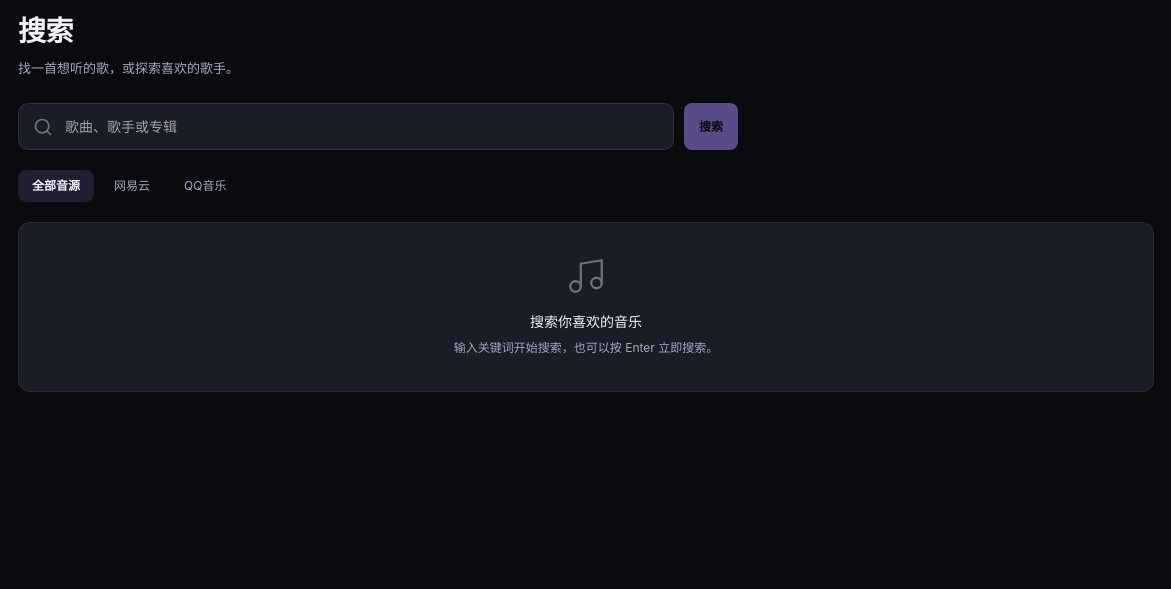
Scenario: 清空 waiting 搜索立即恢复输入前状态和焦点
This screenshot has width=1171, height=589.
In the search field: (364, 127) [65,110,663,144], type "海"
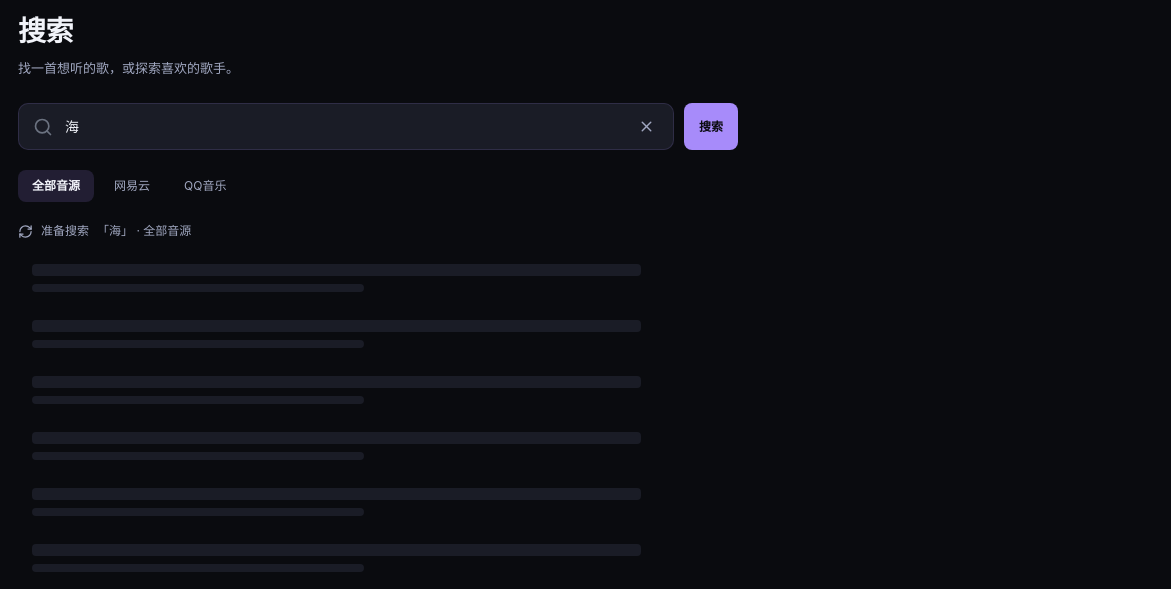
Click the button named "清空搜索": (647, 127) [631,111,663,143]
Wait 450 ms
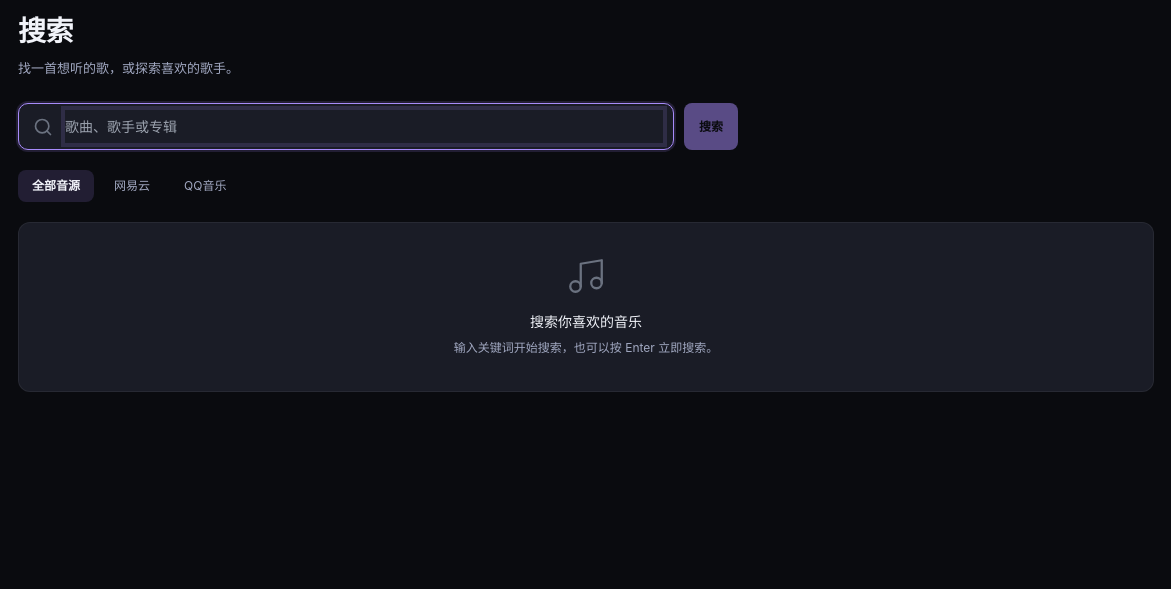
Expected: the heading "搜索你喜欢的音乐" is shown, [530,314,642,330]
